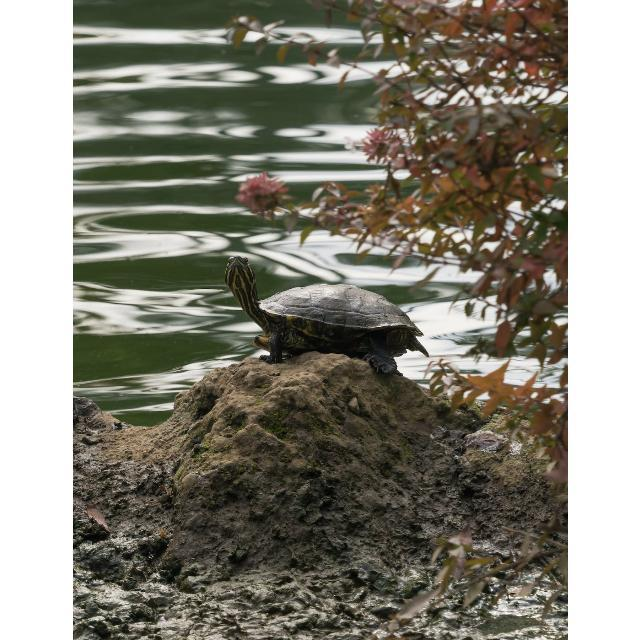turtle: (224, 255, 430, 376)
